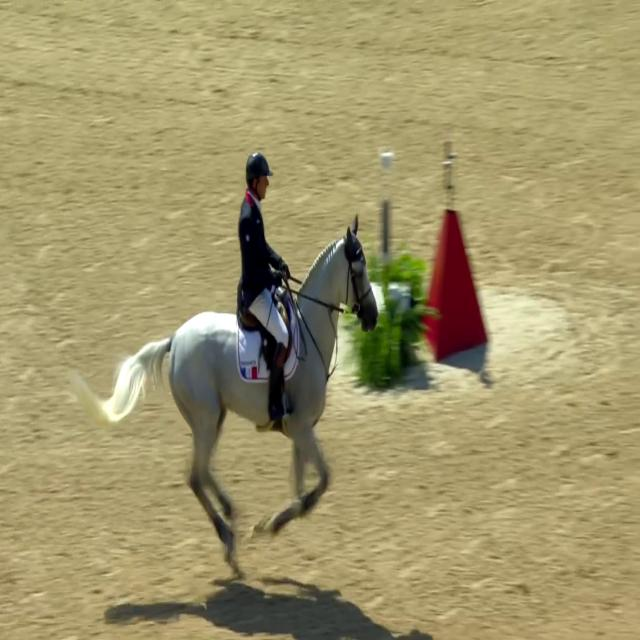Horse Rider: (227, 136, 303, 442)
Horse Running: (69, 203, 390, 576)
